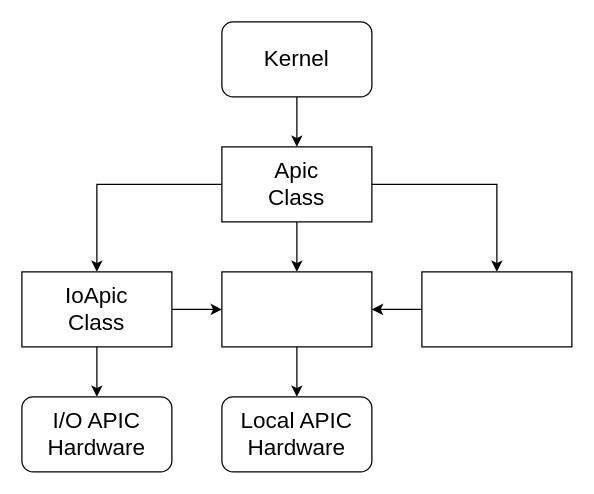
Image size: 594x494. Some labels were removed from this diagram. Here are the shapes that lost their labels. From the top down, the box of each, then its label:
(221, 271, 372, 347): LocalApic Class
(421, 271, 572, 347): ApicTimer Class
